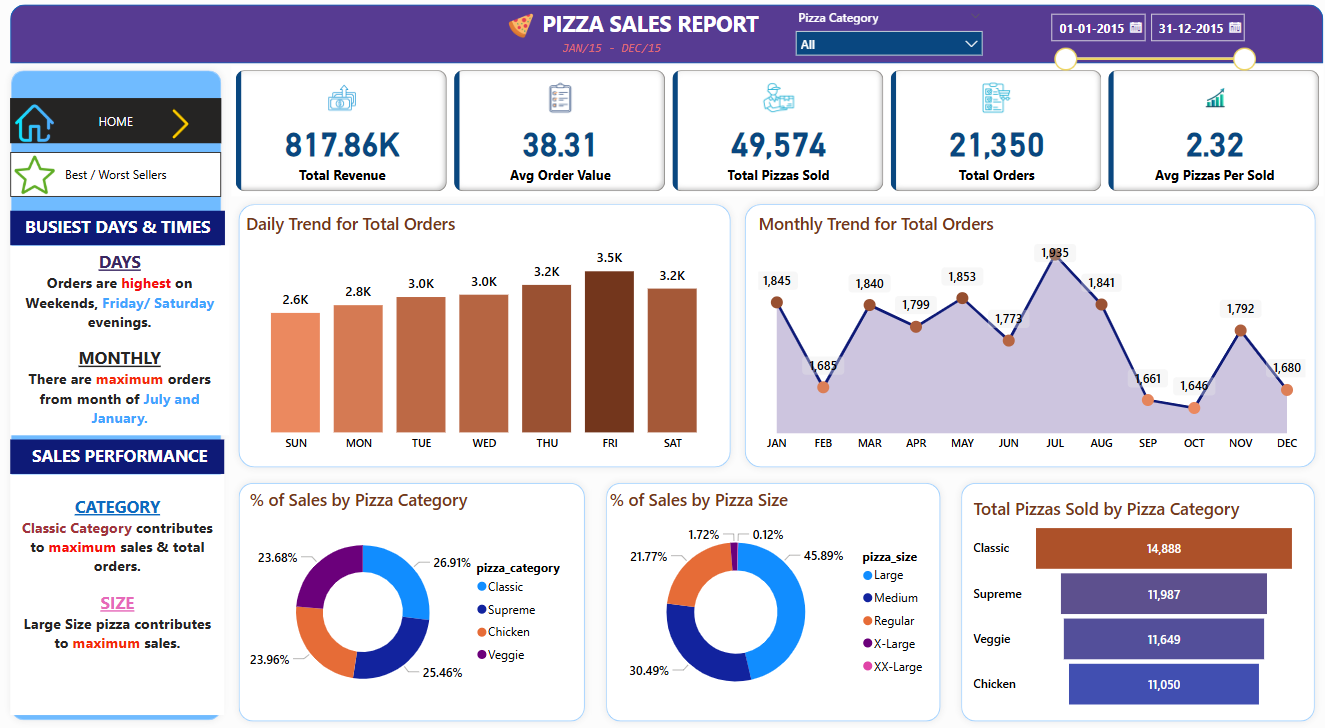

This screenshot's page, from the dashboard's own definition file:
{"tool":"powerbi","page":{"name":"HOME","canvas":[1500,820],"ordinal":0},"visuals":[{"type":"cardVisual","fields":{"Data":["public pizza_sales.Total Revenue","public pizza_sales.Avg Order Value","public pizza_sales.Total Pizzas Sold","public pizza_sales.Total Orders","public pizza_sales.Avg Pizzas Per Sold"]},"box":[270,82.9,1217.1,145.7],"z":0},{"type":"shape","box":[24.3,14.3,1462.9,65.7],"z":1000},{"type":"textbox","box":[611.4,14.3,277.1,47.1],"z":2000},{"type":"image","box":[573.8,13.9,37.6,47.4],"z":3000},{"type":"textbox","box":[634.3,47.1,134.3,35.7],"z":4000},{"type":"shape","box":[270.2,228.4,564,309.2],"z":5000},{"type":"columnChart","title":"Daily Trend for Total Orders ","fields":{"Category":["public pizza_sales.Order Day"],"Y":["public pizza_sales.Total Orders"]},"box":[281.3,245.1,541.7,275.7],"z":6000},{"type":"shape","box":[834.2,228.4,651.8,309.2],"z":7000},{"type":"areaChart","title":"Monthly Trend for Total Orders ","fields":{"Category":["public pizza_sales.Order Month"],"Y":["public pizza_sales.Total Orders"]},"box":[852.3,245.1,619.7,275.7],"z":8000},{"type":"shape","box":[270,538.3,401.7,281.7],"z":9000},{"type":"shape","box":[679.2,538.3,388.3,281.7],"z":10000},{"type":"shape","box":[1075,538.3,410,281.7],"z":11000},{"type":"donutChart","title":"% of Sales by Pizza Category","fields":{"Category":["public pizza_sales.pizza_category"],"Y":["public pizza_sales.Total Revenue"]},"box":[285.7,552.9,371.4,251.4],"z":12000},{"type":"donutChart","title":"% of Sales by Pizza Size","fields":{"Category":["public pizza_sales.pizza_size"],"Y":["public pizza_sales.Total Revenue"]},"box":[687.1,552.9,371.4,251.4],"z":13000},{"type":"shape","box":[16.2,80,250,740],"z":14000},{"type":"funnel","title":"Total Pizzas Sold by Pizza Category","fields":{"Category":["public pizza_sales.pizza_category"],"Y":["public pizza_sales.Total Pizzas Sold"]},"box":[1091.4,562.9,370,241.4],"z":15000},{"type":"textbox","box":[23.8,243.8,239.3,38.6],"z":16000,"group":"g1"},{"type":"textbox","box":[23.8,498.8,238.8,38.6],"z":17000,"group":"g2"},{"type":"textbox","box":[23.8,282.4,243.7,211.4],"z":18000,"group":"g1"},{"type":"textbox","box":[23.8,537.4,238.8,267.6],"z":19000,"group":"g2"},{"type":"slicer","fields":{"Values":["public pizza_sales.order_date"]},"box":[1162.9,14.3,265.7,82.9],"z":20000},{"type":"slicer","fields":{"Values":["public pizza_sales.pizza_category"]},"box":[888.6,14.3,228.6,65.7],"z":21000},{"type":"pageNavigator","box":[23.8,118.8,235,50],"z":21001},{"type":"pageNavigator","box":[23.8,178.8,235,50],"z":21002},{"type":"image","box":[188.8,125,48.8,43.8],"z":21003},{"type":"group","id":"g1","title":"Group 1","box":[23.8,243.8,243.8,250],"z":21004},{"type":"group","id":"g2","title":"Group 2","box":[23.8,498.8,238.8,306.2],"z":21005},{"type":"image","box":[24.3,174.3,54.3,58.6],"z":21006},{"type":"image","box":[14.3,120,74.3,52.9],"z":21007}]}

Visuals, with their boxes in screenshot pixels (x1, y1, x2, y2), scaled from the page's 1500x820 canvas onto the 1325x728 screenshot:
cardVisual - public pizza_sales.Total Revenue x public pizza_sales.Avg Order Value: x1=238 y1=74 x2=1314 y2=203
shape: x1=21 y1=13 x2=1314 y2=71
textbox: x1=540 y1=13 x2=785 y2=55
image: x1=507 y1=12 x2=540 y2=54
textbox: x1=560 y1=42 x2=679 y2=74
shape: x1=239 y1=203 x2=737 y2=477
"Daily Trend for Total Orders " columnChart: x1=248 y1=218 x2=727 y2=462
shape: x1=737 y1=203 x2=1313 y2=477
"Monthly Trend for Total Orders " areaChart: x1=753 y1=218 x2=1300 y2=462
shape: x1=238 y1=478 x2=593 y2=727
shape: x1=600 y1=478 x2=943 y2=727
shape: x1=950 y1=478 x2=1312 y2=727
"% of Sales by Pizza Category" donutChart: x1=252 y1=491 x2=580 y2=714
"% of Sales by Pizza Size" donutChart: x1=607 y1=491 x2=935 y2=714
shape: x1=14 y1=71 x2=235 y2=727
"Total Pizzas Sold by Pizza Category" funnel: x1=964 y1=500 x2=1291 y2=714
textbox: x1=21 y1=216 x2=232 y2=251
textbox: x1=21 y1=443 x2=232 y2=477
textbox: x1=21 y1=251 x2=236 y2=438
textbox: x1=21 y1=477 x2=232 y2=715
slicer - public pizza_sales.order_date: x1=1027 y1=13 x2=1262 y2=86
slicer - public pizza_sales.pizza_category: x1=785 y1=13 x2=987 y2=71
pageNavigator: x1=21 y1=105 x2=229 y2=150
pageNavigator: x1=21 y1=159 x2=229 y2=203
image: x1=167 y1=111 x2=210 y2=150
"Group 1" group: x1=21 y1=216 x2=236 y2=438
"Group 2" group: x1=21 y1=443 x2=232 y2=715
image: x1=21 y1=155 x2=69 y2=207
image: x1=13 y1=107 x2=78 y2=154
